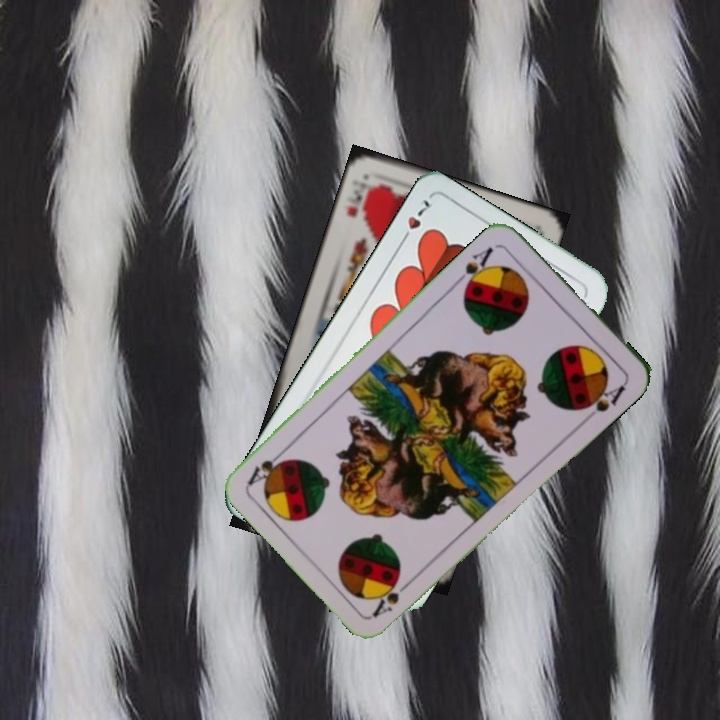H7: (396, 195, 437, 247)
HK: (342, 180, 374, 221)
SA: (368, 573, 416, 620), (453, 242, 497, 291)
